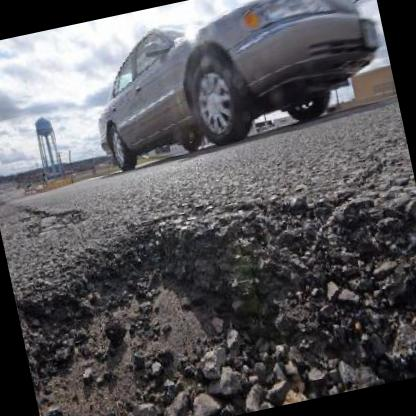pothole: (3, 158, 416, 416), (48, 204, 90, 230)
